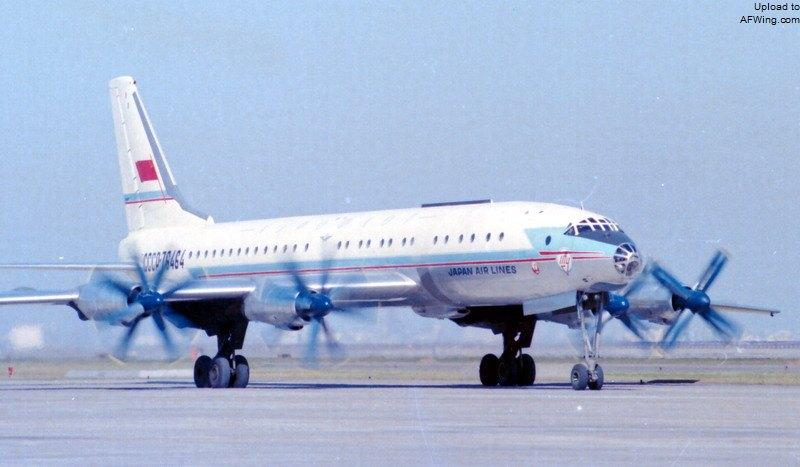airplane: (11, 75, 741, 388)
